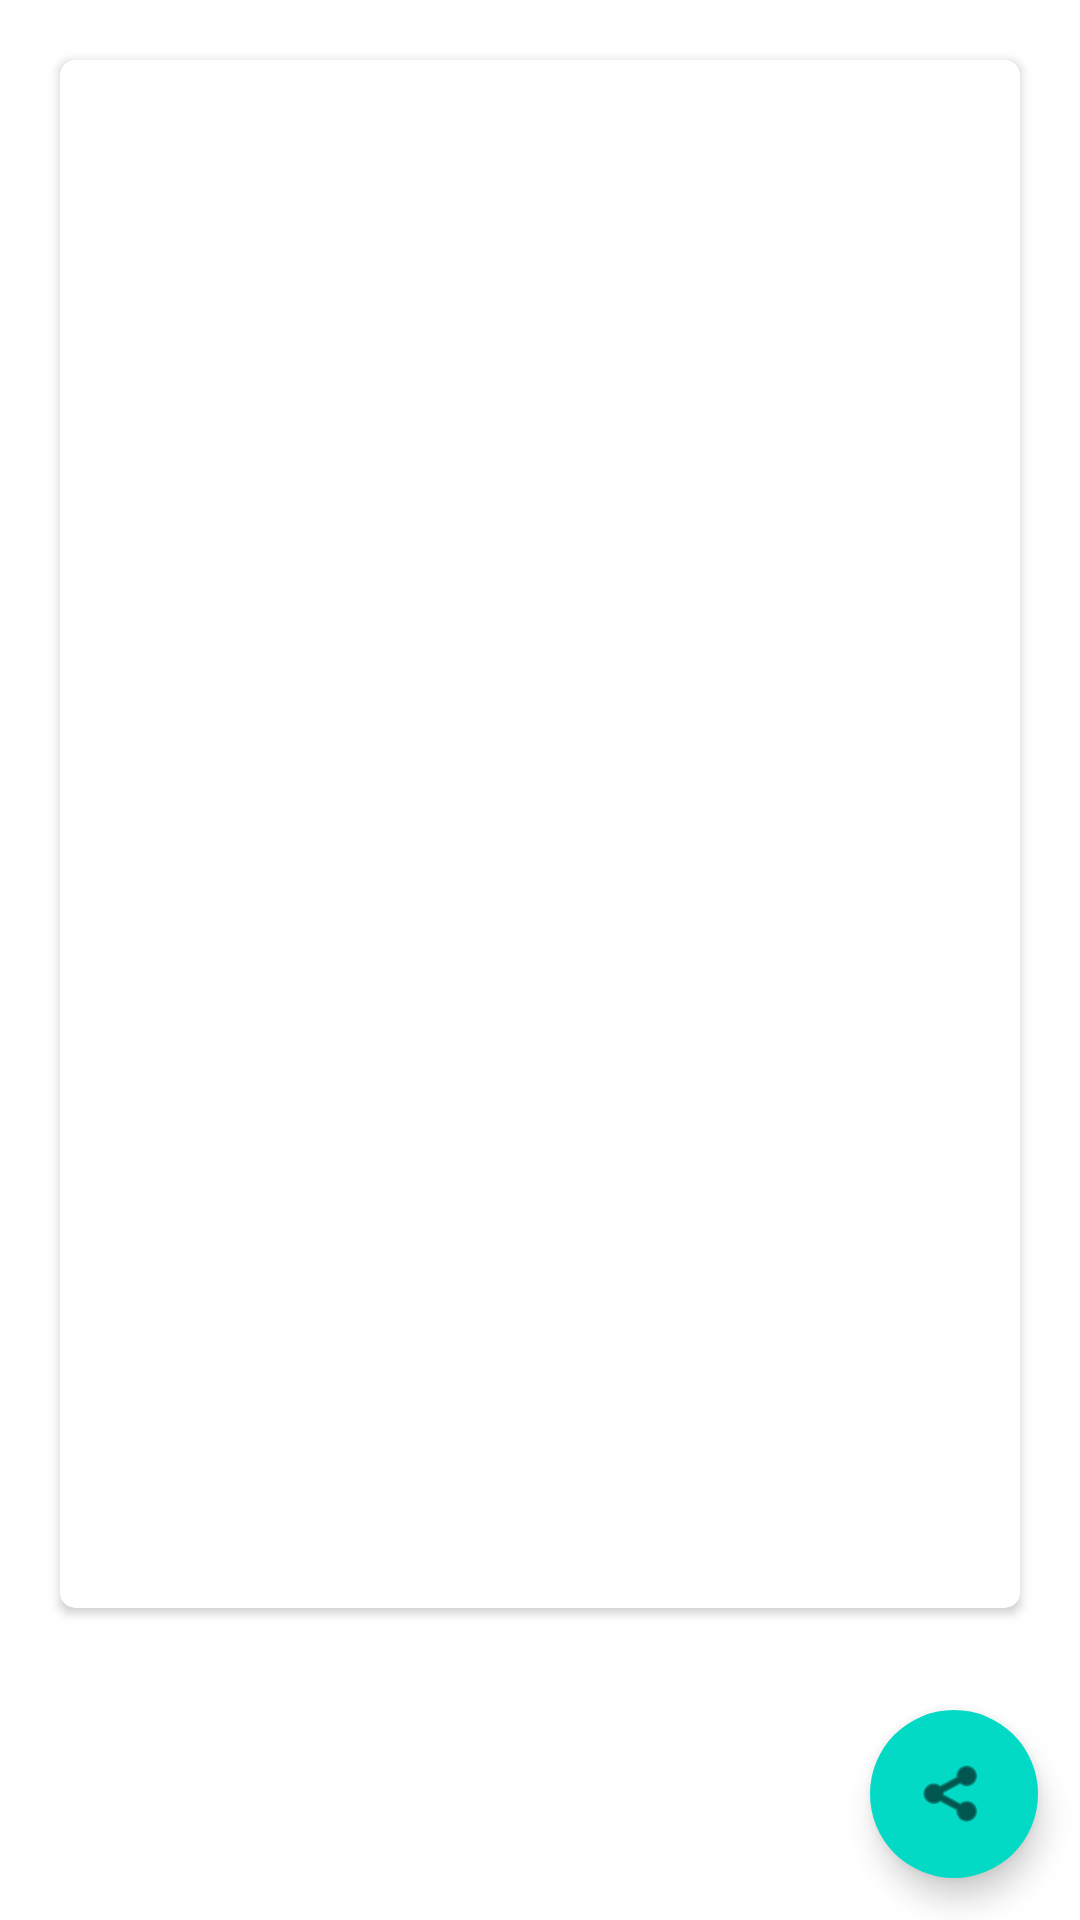

Icon click points for this 1080px x 1920px phone screenshot, format (x=x, y=y):
share: (x=954, y=1794)
